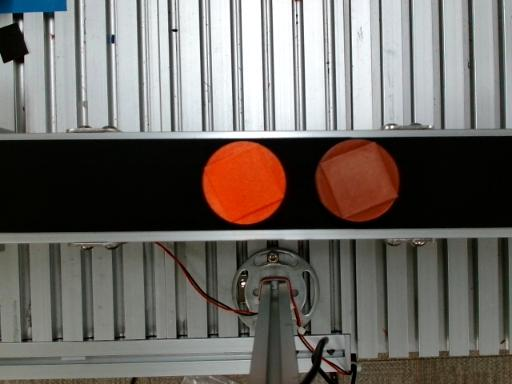Square: (204, 143, 283, 222), (320, 142, 398, 218)
